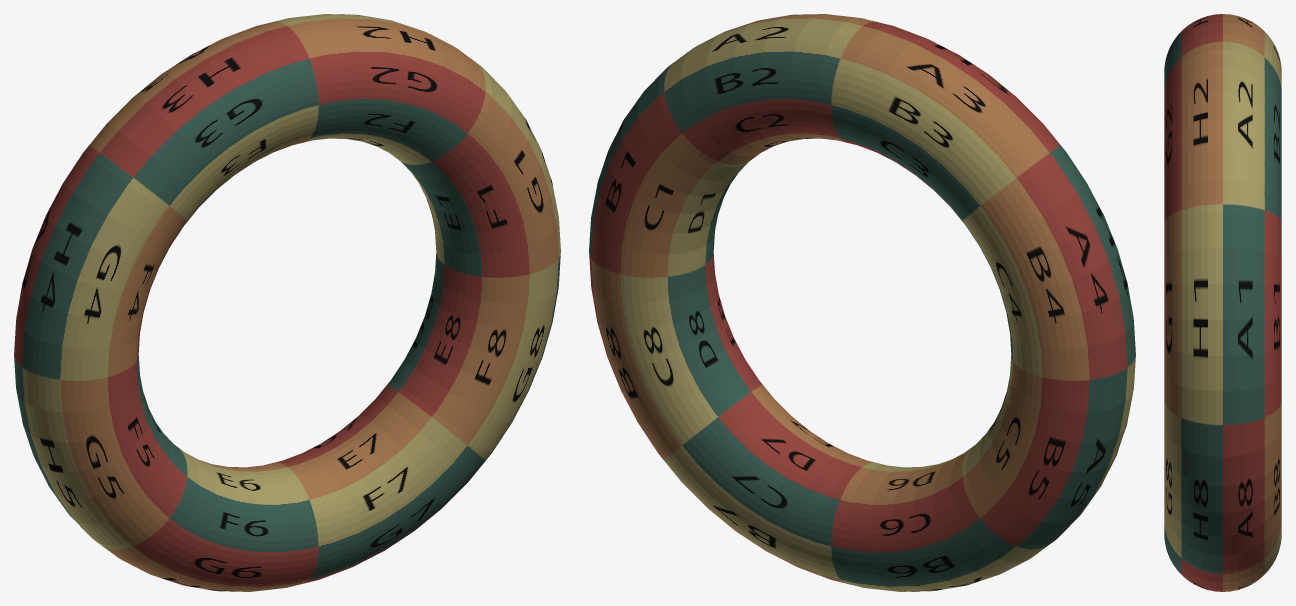
File: texture_torus_R28_r20.glb
3 renders of one model, left to right at view 1: azimuth 30°, elevation 25°; view 2: azimuth 150°, elevation 25°; view 3: azimuth 270°, elevation 25°, orthographic. The views are drawn at different scales.
Visible parts, largest first — view 1: world; view 2: world; view 3: world.
Part boxes in pixels (x1,y1,x2,y2): world: (14, 14, 560, 591); world: (589, 14, 1135, 591); world: (1164, 14, 1281, 591).
Size of the model in its own units: 36 by 35.93 by 7.32.
1 material, 1 textured.
